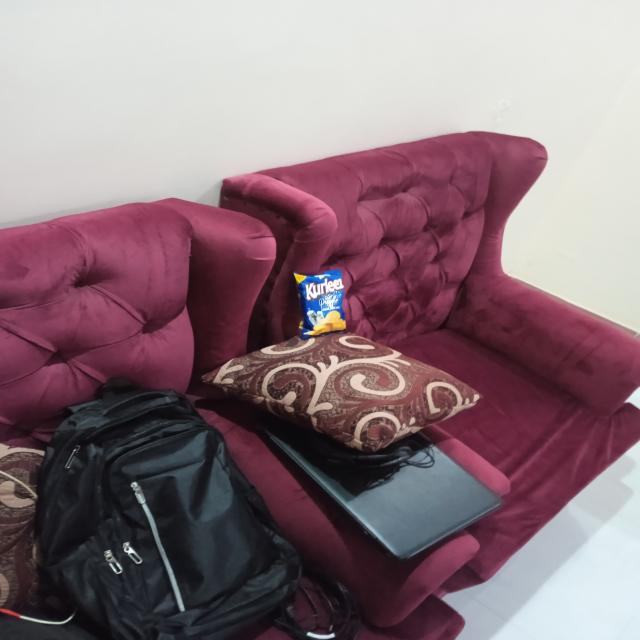Plastic: (288, 263, 350, 334)
